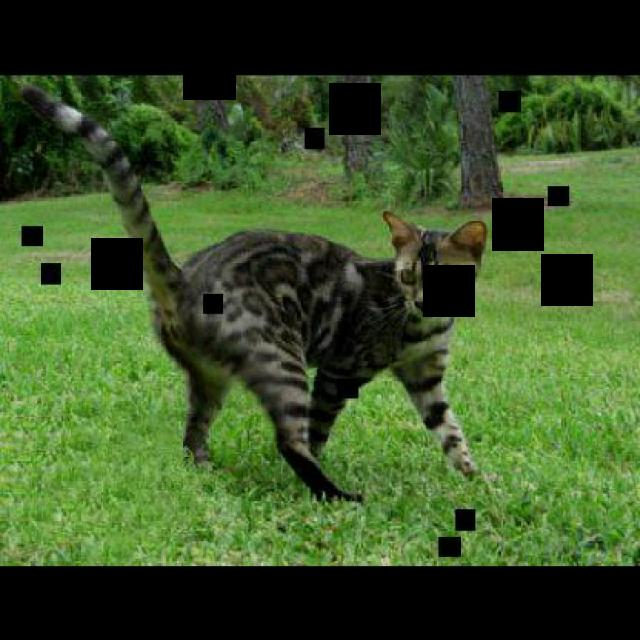unauthorized: (19, 83, 488, 505)
